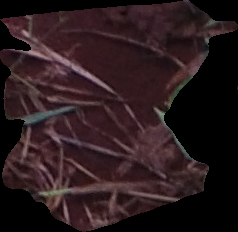soil: (2, 2, 238, 231)
